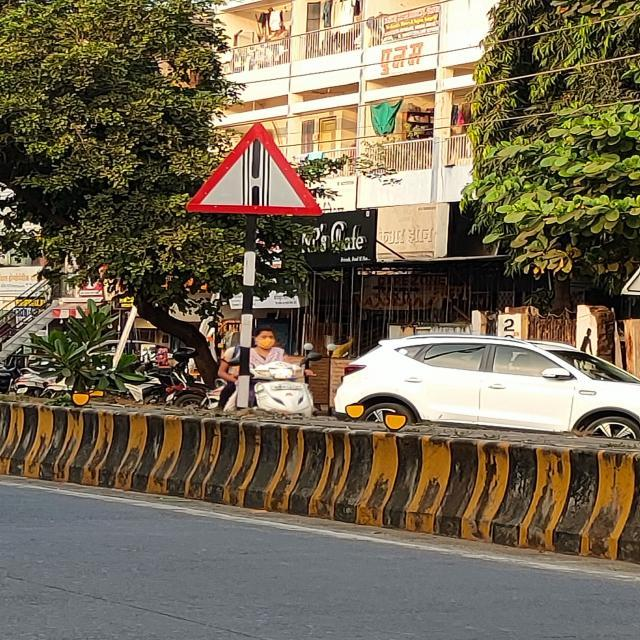gap in median: (184, 117, 327, 218)
